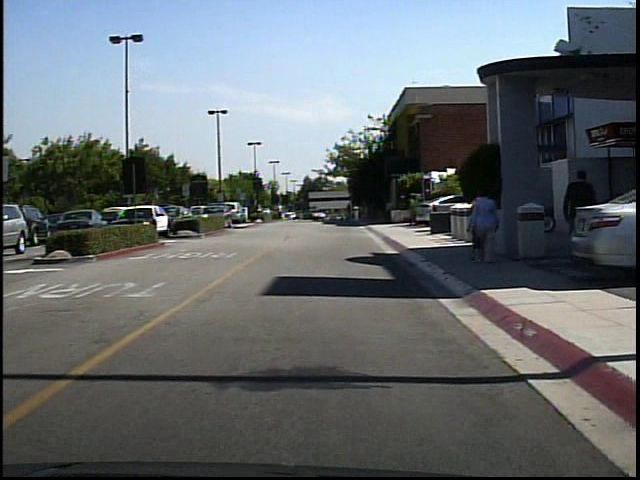person: (560, 161, 609, 277), (471, 184, 503, 266), (475, 189, 498, 264), (351, 203, 364, 228), (282, 201, 292, 225)
